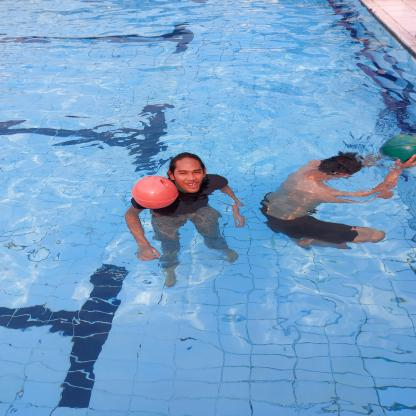green_buoy: (378, 132, 416, 164)
red_buoy: (130, 174, 180, 210)
